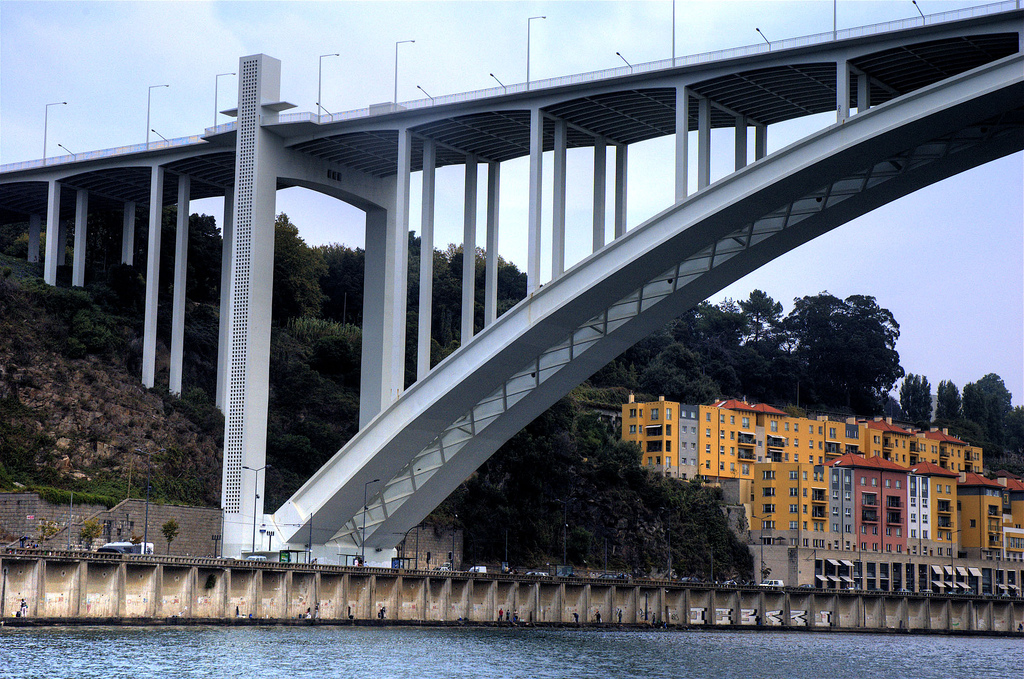arrabida: (0, 0, 1023, 572)
